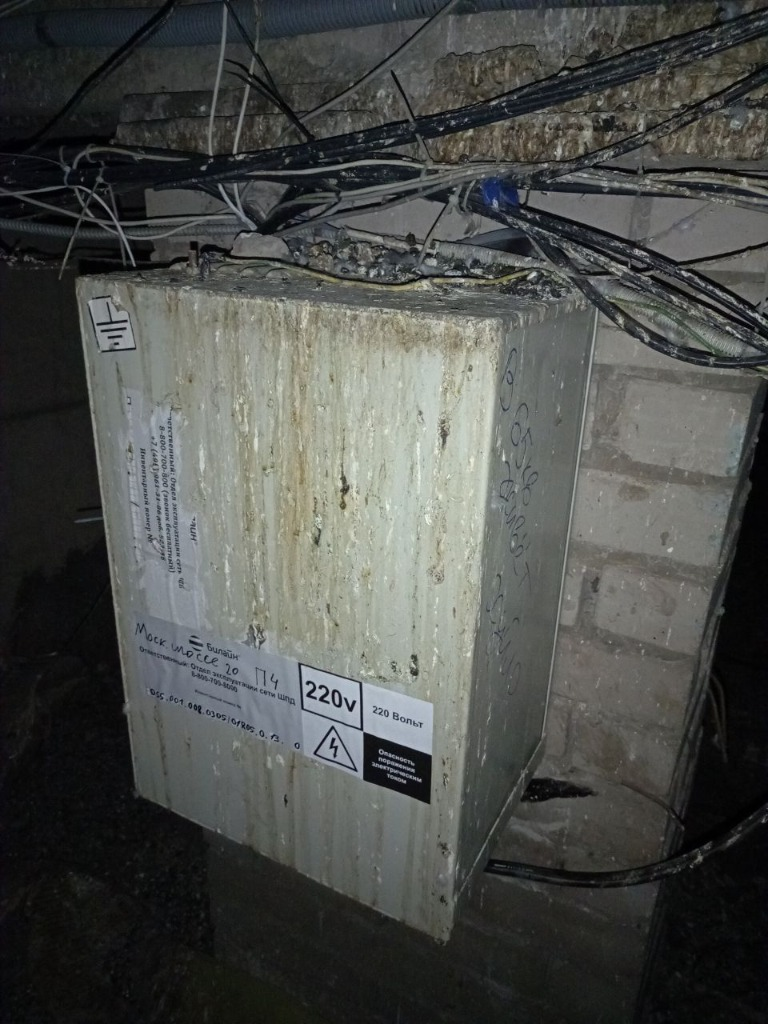sv-5: (69, 231, 608, 952)
